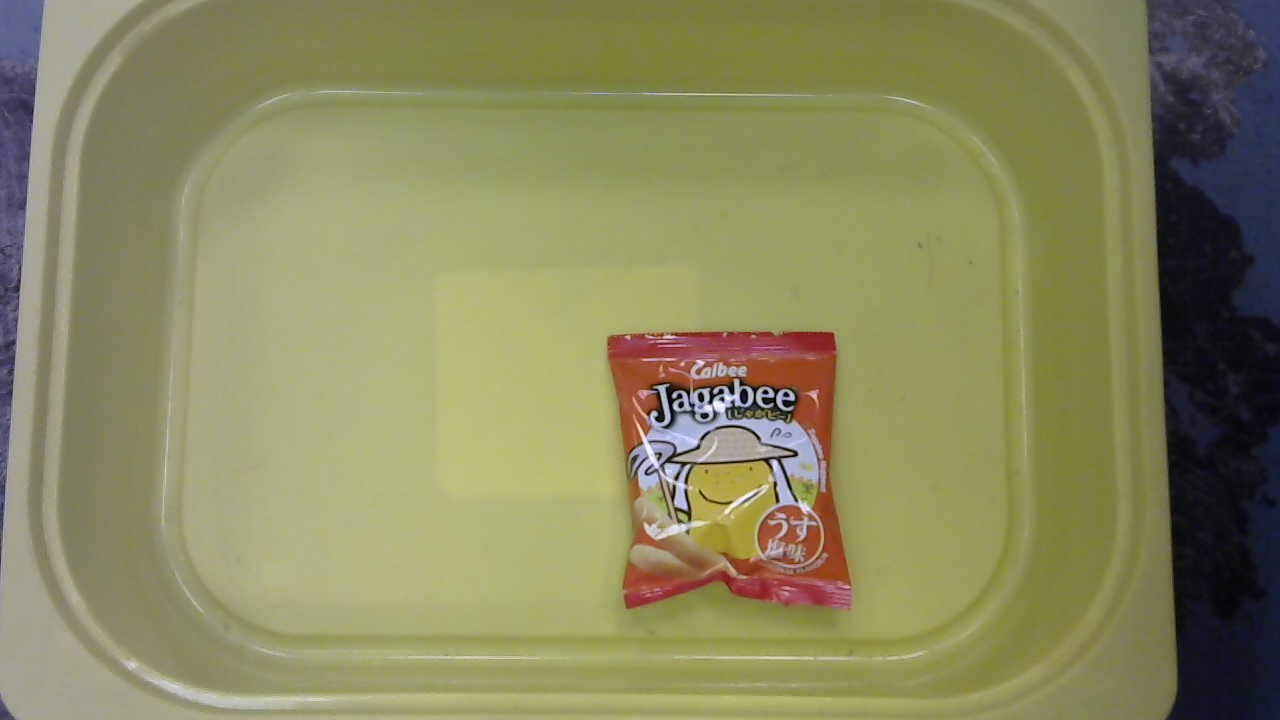JagabeeFarmer: (595, 325, 864, 623)
